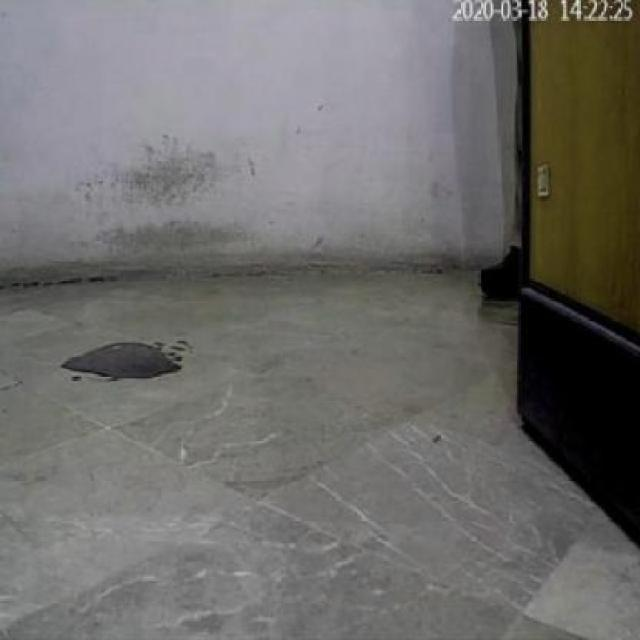spillage: (61, 341, 192, 382)
